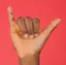clockwise: (5, 5, 63, 54)
